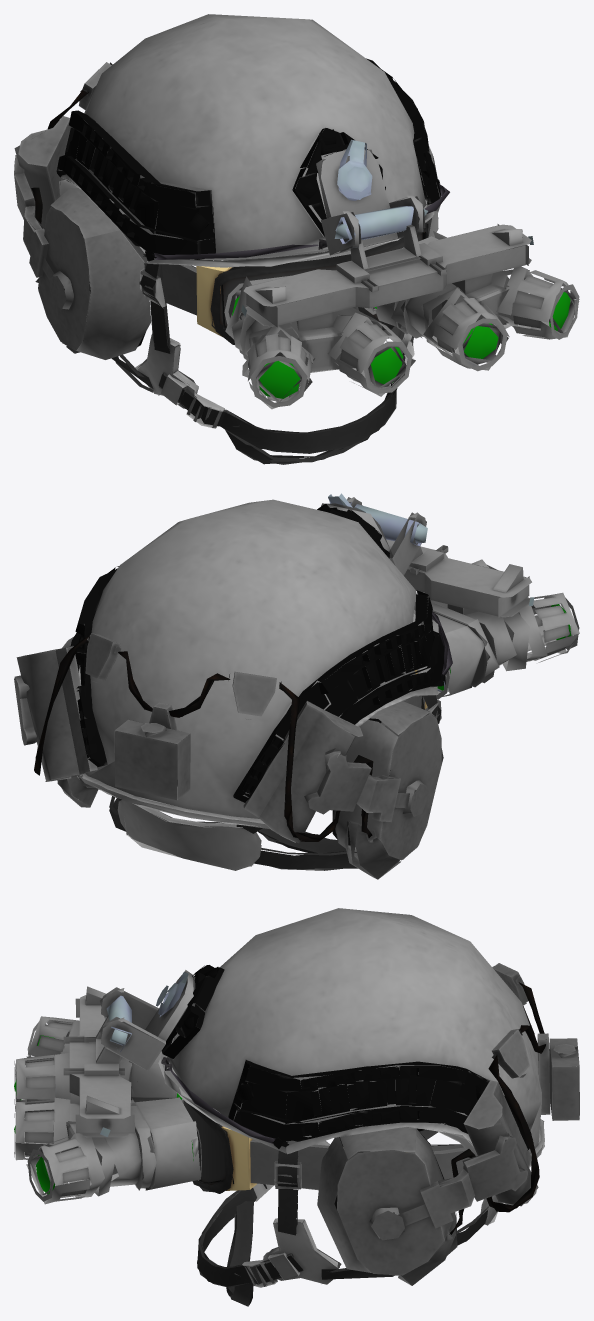
The model's file is SM_tactical_modern_helmet_w_nvgs.glb.
3 views of the same model, one above another, from view 1: azimuth 30°, elevation 25°; view 2: azimuth 150°, elevation 25°; view 3: azimuth 270°, elevation 25° (orthographic). The views are drawn at different scales.
Visible parts, largest first — view 1: SM_tactical_modern_helmet_w_nvgs; view 2: SM_tactical_modern_helmet_w_nvgs; view 3: SM_tactical_modern_helmet_w_nvgs.
Boxes of the visible parts, x1,y1,x2,y2 form: SM_tactical_modern_helmet_w_nvgs: [14, 14, 579, 464]; SM_tactical_modern_helmet_w_nvgs: [14, 493, 579, 879]; SM_tactical_modern_helmet_w_nvgs: [14, 908, 579, 1306].
Bounding box in the file's own units: 10.44 × 10.66 × 15.06.
Materials: 5 (4 with a texture image).
